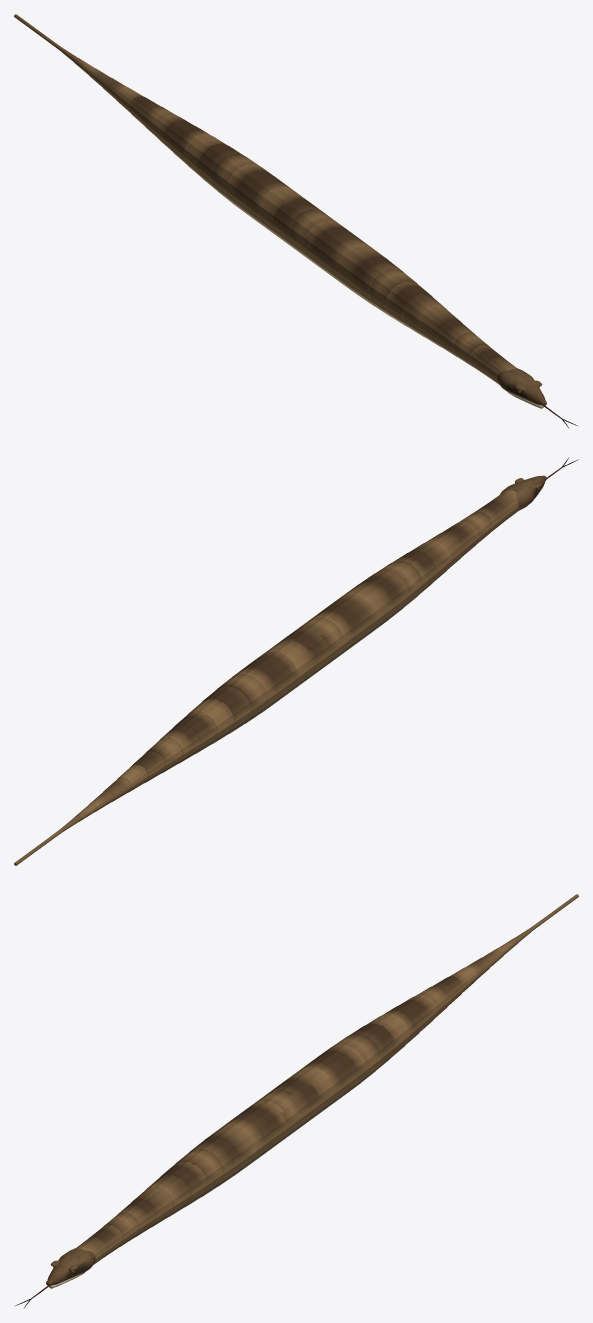
File: pacific_boa.glb
The picture shows the model from 3 angles, top to bottom: view 1: azimuth 30°, elevation 25°; view 2: azimuth 150°, elevation 25°; view 3: azimuth 330°, elevation 25°; orthographic projection.
Visible parts, largest first — view 1: bd_head_mesh, bd_m10, bd_m15, bd_m13, bd_m8, bd_m12, bd_m9, bd_m7, bd_m16, bd_m11, bd_m6, bd_m14 (+10 smaller); view 2: bd_m10, bd_m11, bd_m14, bd_m17, bd_m15, bd_m18, bd_m16, bd_m13, bd_m9, bd_m19, bd_m12, bd_m8 (+10 smaller); view 3: bd_head_mesh, bd_m10, bd_m15, bd_m13, bd_m8, bd_m9, bd_m7, bd_m12, bd_m16, bd_m11, bd_m14, bd_m6 (+10 smaller).
Part boxes in pixels (x1=…): bd_head_mesh: x1=497, y1=368, x2=546, y2=405; bd_m10: x1=318, y1=232, x2=371, y2=283; bd_m15: x1=241, y1=175, x2=291, y2=227; bd_m13: x1=272, y1=198, x2=322, y2=249; bd_m8: x1=352, y1=257, x2=402, y2=306; bd_m12: x1=290, y1=209, x2=338, y2=261; bd_m9: x1=337, y1=245, x2=387, y2=295; bd_m7: x1=369, y1=269, x2=417, y2=316; bd_m16: x1=226, y1=164, x2=275, y2=213; bd_m11: x1=306, y1=220, x2=353, y2=270; bd_m6: x1=385, y1=281, x2=432, y2=326; bd_m14: x1=260, y1=187, x2=307, y2=236; bd_m10: x1=325, y1=592, x2=378, y2=644; bd_m11: x1=311, y1=604, x2=363, y2=655; bd_m14: x1=264, y1=638, x2=316, y2=689; bd_m17: x1=217, y1=674, x2=267, y2=723; bd_m15: x1=248, y1=649, x2=299, y2=701; bd_m18: x1=202, y1=686, x2=251, y2=733; bd_m16: x1=232, y1=662, x2=283, y2=712; bd_m13: x1=279, y1=626, x2=332, y2=678; bd_m9: x1=344, y1=581, x2=393, y2=631; bd_m19: x1=187, y1=699, x2=234, y2=743; bd_m12: x1=298, y1=617, x2=344, y2=667; bd_m8: x1=360, y1=571, x2=408, y2=619; bd_head_mesh: x1=46, y1=1247, x2=95, y2=1285; bd_m10: x1=221, y1=1112, x2=274, y2=1163; bd_m15: x1=301, y1=1055, x2=351, y2=1107; bd_m13: x1=268, y1=1078, x2=320, y2=1129; bd_m8: x1=190, y1=1137, x2=240, y2=1186; bd_m9: x1=205, y1=1125, x2=255, y2=1175; bd_m7: x1=175, y1=1149, x2=223, y2=1196; bd_m12: x1=254, y1=1089, x2=302, y2=1141; bd_m16: x1=317, y1=1044, x2=366, y2=1093; bd_m11: x1=236, y1=1100, x2=286, y2=1150; bd_m14: x1=285, y1=1067, x2=332, y2=1116; bd_m6: x1=160, y1=1161, x2=207, y2=1206.
Bounding box in the file's own units: 0.058 × 0.0545 × 1.34.
